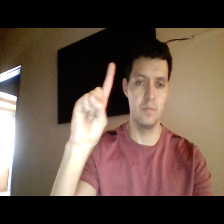2T: (65, 50, 119, 151)
